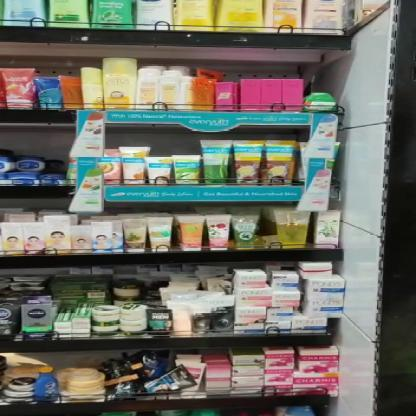EY NAT GLOW ORANGE PEEL OFF AY 90G: (121, 144, 146, 186), (148, 156, 174, 184)
EY RJ CUCUMBER ALOEVERA FACEPAK50G: (174, 156, 198, 184)
